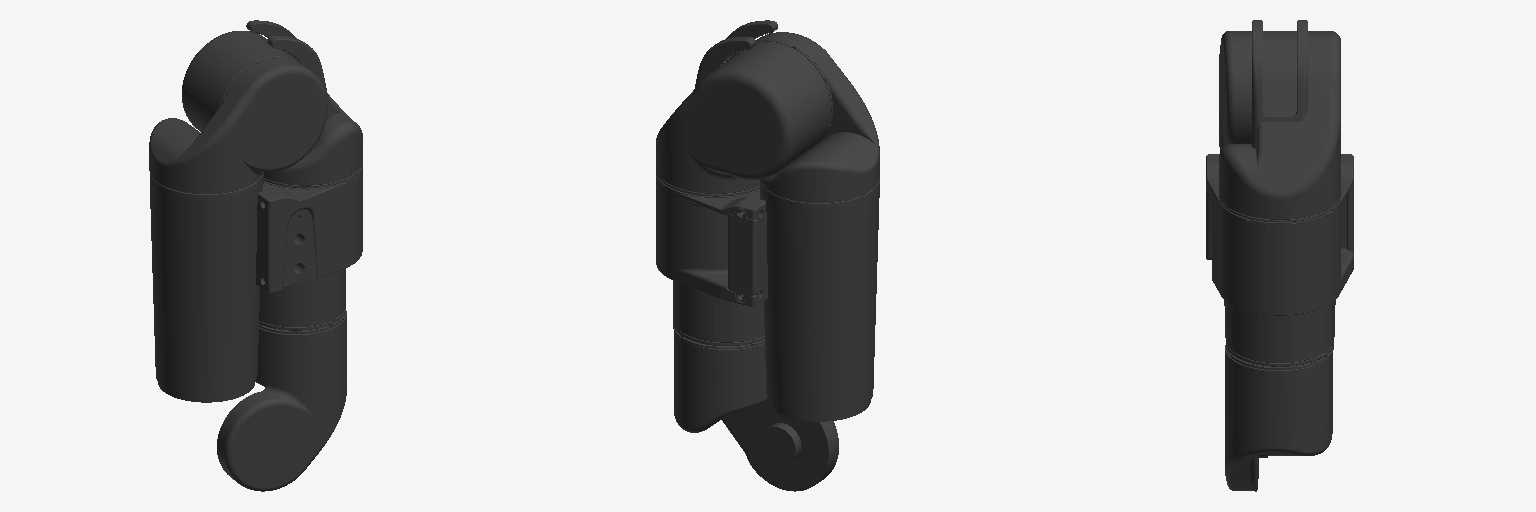
The robot description file, URDF, robot "bravo_5_example":
<?xml version="1.0" encoding="utf-8"?>
<!-- =================================================================================== -->
<!-- |    This document was autogenerated by xacro from bravo_5_example.urdf.xacro     | -->
<!-- |    EDITING THIS FILE BY HAND IS NOT RECOMMENDED                                 | -->
<!-- =================================================================================== -->
<robot name="bravo_5_example">
  <link name="base_link"/>
  <joint name="bravo_joint" type="fixed">
    <origin rpy="0 0 0" xyz="0 0 0"/>
    <parent link="base_link"/>
    <child link="bravo_base_link"/>
    <origin rpy="0 0 0" xyz="0 0 0"/>
  </joint>
  <material name="bravo_black">
    <color rgba="0.3 0.3 0.3 1"/>
  </material>
  <link name="bravo_base_link">
    <visual>
      <geometry>
        <mesh filename="package://bpl_bravo_description/meshes/RS2-1019_base.stl"/>
      </geometry>
      <material name="bravo_black"/>
    </visual>
    <collision>
      <geometry>
        <box size="0.0725 0.1112 0.083"/>
      </geometry>
      <origin rpy="0 0 0" xyz="0.03625 00 0.0415"/>
    </collision>
    <collision>
      <geometry>
        <box size="0.050 0.080 0.060"/>
      </geometry>
      <origin rpy="0 0 0" xyz="0.025 -0.04556 0.03"/>
    </collision>
    <collision>
      <geometry>
        <cylinder length="0.083" radius="0.046"/>
      </geometry>
      <origin rpy="0 0 0" xyz="0.0665 0 0.0415"/>
    </collision>
  </link>
  <joint name="bravo_axis_e" type="revolute">
    <parent link="bravo_base_link"/>
    <origin rpy="0 0 3.14159" xyz="0.0665 0 0.08"/>
    <axis xyz="0 0 -1"/>
    <child link="bravo_1019_end_link"/>
    <limit effort="0" lower="0.0" upper="6.3" velocity="0"/>
  </joint>
  <link name="bravo_1019_end_link">
    <visual>
      <geometry>
        <mesh filename="package://bpl_bravo_description/meshes/RS2-1019_end.stl"/>
      </geometry>
      <material name="bravo_black"/>
    </visual>
  </link>
  <joint name="bravo_d_base_joint" type="fixed">
    <parent link="bravo_1019_end_link"/>
    <origin rpy="0 0 0" xyz="0 0 0"/>
    <child link="bravo_1013_base_link"/>
  </joint>
  <link name="bravo_1013_base_link">
    <visual>
      <geometry>
        <mesh filename="package://bpl_bravo_description/meshes/RS2-1013_base.stl"/>
      </geometry>
      <material name="bravo_black"/>
    </visual>
    <collision>
      <geometry>
        <cylinder length="0.030" radius="0.046"/>
      </geometry>
      <origin rpy="0 0 0" xyz="0.0 00 0.015"/>
    </collision>
    <collision>
      <geometry>
        <cylinder length="0.1" radius="0.046"/>
      </geometry>
      <origin rpy="1.5707 0 0 " xyz="0.048 00 0.0642"/>
    </collision>
  </link>
  <joint name="bravo_axis_d" type="revolute">
    <parent link="bravo_1013_base_link"/>
    <origin rpy="0 0 0" xyz="0.046 0 0.0642"/>
    <axis xyz="0 -1 0"/>
    <child link="bravo_1013_joint_link"/>
    <limit effort="0" lower="0.0" upper="3.2" velocity="0"/>
  </joint>
  <link name="bravo_1013_joint_link">
    <visual>
      <geometry>
        <mesh filename="package://bpl_bravo_description/meshes/RS2-1013_end.stl"/>
      </geometry>
      <material name="bravo_black"/>
    </visual>
    <collision>
      <geometry>
        <cylinder length="0.03" radius="0.046"/>
      </geometry>
      <origin rpy="0 0 0" xyz="0.046 0 -0.03555"/>
    </collision>
  </link>
  <joint name="bravo_1013_end_joint" type="fixed">
    <parent link="bravo_1013_joint_link"/>
    <origin rpy="3.14159 0 3.14159" xyz="0.046 0 -0.05055"/>
    <child link="bravo_1013_end_link"/>
  </joint>
  <link name="bravo_1013_end_link"/>
  <joint name="bravo_c_base_joint" type="fixed">
    <parent link="bravo_1013_end_link"/>
    <origin rpy="0 0 0" xyz="0 0 0.182"/>
    <child link="bravo_1023_0_base_link"/>
  </joint>
  <link name="bravo_1023_0_base_link">
    <visual>
      <geometry>
        <mesh filename="package://bpl_bravo_description/meshes/RS2-1023_0_base.stl"/>
      </geometry>
      <material name="bravo_black"/>
    </visual>
    <collision>
      <geometry>
        <cylinder length="0.03" radius="0.0408"/>
      </geometry>
      <origin rpy="0 0 0" xyz="0 00 0.015"/>
    </collision>
    <collision>
      <geometry>
        <cylinder length="0.0816" radius="0.0408"/>
      </geometry>
      <origin rpy="1.5707 0 0" xyz="0.0408 00 0.0578"/>
    </collision>
  </link>
  <joint name="bravo_axis_c" type="revolute">
    <parent link="bravo_1023_0_base_link"/>
    <origin rpy="0 0 0" xyz="0.042 0 0.0578"/>
    <axis xyz="0 -1 0"/>
    <child link="bravo_1023_0_joint_link"/>
    <limit effort="0" lower="0.0" upper="3.2" velocity="0"/>
  </joint>
  <link name="bravo_1023_0_joint_link">
    <visual>
      <geometry>
        <mesh filename="package://bpl_bravo_description/meshes/RS2-1023_0_end.stl"/>
      </geometry>
      <material name="bravo_black"/>
    </visual>
    <collision>
      <geometry>
        <cylinder length="0.080" radius="0.0408"/>
      </geometry>
      <origin rpy="0 0 0" xyz="0.0408 0 -0.05385"/>
    </collision>
  </link>
  <joint name="bravo_1023_0_end_joint" type="fixed">
    <parent link="bravo_1023_0_joint_link"/>
    <origin rpy="3.14159 0 0" xyz="0.0408 0 -0.09385"/>
    <child link="bravo_1023_0_end_link"/>
  </joint>
  <link name="bravo_1023_0_end_link"/>
  <joint name="bravo_b_base_joint" type="fixed">
    <parent link="bravo_1023_0_end_link"/>
    <origin rpy="0 0 0" xyz="0 0 0"/>
    <child link="bravo_1023_1_base_link"/>
  </joint>
  <link name="bravo_1023_1_base_link">
        </link>
  <joint name="bravo_axis_b" type="continuous">
    <parent link="bravo_1023_1_base_link"/>
    <origin rpy="0 0 0" xyz="0 0 0.0005"/>
    <axis xyz="0 0 -1"/>
    <child link="bravo_1023_1_joint_link"/>
    <!--            <limit effort="0" velocity="0" lower="0.0" upper="0.0" />-->
  </joint>
  <link name="bravo_1023_1_joint_link">
    <visual>
      <geometry>
        <mesh filename="package://bpl_bravo_description/meshes/RS2-1023_1_end.stl"/>
      </geometry>
      <material name="bravo_black"/>
    </visual>
    <collision>
      <geometry>
        <cylinder length="0.0056" radius="0.0408"/>
      </geometry>
      <origin rpy="0 0 0" xyz="0 0 0.0028"/>
    </collision>
  </link>
  <joint name="bravo_1023_1_end_joint" type="fixed">
    <parent link="bravo_1023_1_joint_link"/>
    <origin rpy="0 0 0" xyz="0 0 0.0056"/>
    <child link="bravo_1023_1_end_link"/>
  </joint>
  <link name="bravo_1023_1_end_link"/>
  <joint name="bravo_a_base_joint" type="fixed">
    <parent link="bravo_1023_1_end_link"/>
    <origin rpy="0 0 0" xyz="0 0 0"/>
    <child link="bravo_1028_base_link"/>
  </joint>
  <link name="bravo_1028_base_link">
    <visual>
      <geometry>
        <mesh filename="package://bpl_bravo_description/meshes/RS2-1028.stl"/>
      </geometry>
      <material name="bravo_black"/>
    </visual>
    <collision>
      <geometry>
        <cylinder length="0.120" radius="0.0408"/>
      </geometry>
      <origin rpy="0 0 0" xyz="0 0 0.06"/>
    </collision>
  </link>
  <joint name="bravo_1028_end_joint" type="fixed">
    <parent link="bravo_1028_base_link"/>
    <origin rpy="-1.5707 -1.5707 0" xyz="0 0 0.120"/>
    <child link="bravo_1028_end_link"/>
  </joint>
  <link name="bravo_1028_end_link"/>
  <joint name="bravo_jaws_joint" type="fixed">
    <origin rpy="0 0 0" xyz=" 0 0 0.0"/>
    <parent link="bravo_1028_end_link"/>
    <child link="bravo_jaws_base_link"/>
  </joint>
  <link name="bravo_jaws_base_link">
    <!--        <visual>-->
    <!--            <geometry>-->
    <!--                <mesh filename="package://bpl_bravo_description/meshes/end_effectors/RS2-257.stl"/>-->
    <!--            </geometry>-->
    <!--            <material name="bravo_jaws_black"/>-->
    <!--            </visual>-->
  </link>
  <link name="bravo_push_rod"/>
  <joint name="bravo_axis_a" type="prismatic">
    <origin rpy="0 0 0" xyz="0 0 0.009"/>
    <parent link="bravo_jaws_base_link"/>
    <child link="bravo_push_rod"/>
    <axis xyz="0 0 1"/>
    <limit effort="10" lower="0" upper="0.035" velocity="10"/>
  </joint>
  <link name="bravo_1030_base_link">
    <visual>
      <geometry>
        <mesh filename="package://bpl_bravo_description/meshes/RS2-1030.stl"/>
      </geometry>
      <material name="bravo_black"/>
    </visual>
    <collision>
      <geometry>
        <cylinder length="0.03033333" radius="0.046"/>
      </geometry>
      <origin rpy="0 0 0" xyz="0 0 0.01516666"/>
    </collision>
    <collision>
      <geometry>
        <cylinder length="0.03033333" radius="0.045"/>
      </geometry>
      <origin rpy="0 0 0" xyz="0 0 0.0455"/>
    </collision>
    <collision>
      <geometry>
        <cylinder length="0.03033333" radius="0.044"/>
      </geometry>
      <origin rpy="0 0 0" xyz="0 0 0.075833333"/>
    </collision>
    <collision>
      <geometry>
        <cylinder length="0.03033333" radius="0.043"/>
      </geometry>
      <origin rpy="0 0 0" xyz="0 0 0.1061666666"/>
    </collision>
    <collision>
      <geometry>
        <cylinder length="0.03033333" radius="0.042"/>
      </geometry>
      <origin rpy="0 0 0" xyz="0 0 0.1365"/>
    </collision>
    <collision>
      <geometry>
        <cylinder length="0.03033333" radius="0.041"/>
      </geometry>
      <origin rpy="0 0 0" xyz="0 0 0.1668333"/>
    </collision>
  </link>
  <joint name="bravo_1030_base_joint" type="fixed">
    <parent link="bravo_1013_end_link"/>
    <child link="bravo_1030_base_link"/>
    <origin rpy="0 0 0" xyz="0 0 0"/>
  </joint>
  <material name="bravo_finger_jaws_black">
    <color rgba="0.3 0.3 0.3 1"/>
  </material>
  <joint name="bravo_finger_jaws_joint" type="fixed">
    <origin rpy="0 0 0" xyz="0 0 0"/>
    <parent link="bravo_jaws_base_link"/>
    <child link="bravo_finger_jaws_base_link"/>
    <origin rpy="0 0 0" xyz="0 0 0"/>
  </joint>
  <link name="bravo_finger_jaws_base_link">
    <visual>
      <geometry>
        <mesh filename="package://bpl_bravo_description/meshes/end_effectors/RS2-257.stl"/>
      </geometry>
      <material name="bravo_finger_jaws_black"/>
    </visual>
    <collision>
      <geometry>
        <cylinder length="0.02" radius="0.05"/>
      </geometry>
      <origin rpy="0 1.5707 0" xyz="0.01 0 0.00"/>
    </collision>
  </link>
  <link name="bravo_finger_jaws_rs2_300_link">
    <visual>
      <geometry>
        <mesh filename="package://bpl_bravo_description/meshes/end_effectors/RS2-300.stl"/>
      </geometry>
      <material name="bravo_finger_jaws_black"/>
    </visual>
    <collision>
      <geometry>
        <box size="0.14 0.04 0.045"/>
      </geometry>
      <origin rpy="0 0 0.35" xyz="0.07 0.025 0.00"/>
    </collision>
  </link>
  <joint name="bravo_finger_jaws_rs2_300_joint" type="revolute">
    <origin rpy="0 0 0" xyz="0.0097 -0.033 0"/>
    <parent link="bravo_finger_jaws_base_link"/>
    <child link="bravo_finger_jaws_rs2_300_link"/>
    <axis xyz="0 0 -1"/>
    <limit effort="10" lower="0" upper="1.0" velocity="10"/>
    <mimic joint="bravo_axis_a" multiplier="18" offset="0"/>
  </joint>
  <link name="bravo_finger_jaws_rs2_301_link">
    <visual>
      <geometry>
        <mesh filename="package://bpl_bravo_description/meshes/end_effectors/RS2-301.stl"/>
      </geometry>
      <material name="bravo_finger_jaws_black"/>
    </visual>
    <collision>
      <geometry>
        <box size="0.14 0.04 0.045"/>
      </geometry>
      <origin rpy="0 0 -0.35" xyz="0.07 -0.025 0.00"/>
    </collision>
  </link>
  <joint name="bravo_finger_jaws_rs2_301_joint" type="revolute">
    <origin rpy="0 0 0" xyz="0.0097 0.033 0"/>
    <parent link="bravo_finger_jaws_base_link"/>
    <child link="bravo_finger_jaws_rs2_301_link"/>
    <axis xyz="0 0 1"/>
    <limit effort="10" lower="0" upper="1.0" velocity="10"/>
    <mimic joint="bravo_finger_jaws_rs2_300_joint" multiplier="1" offset="0"/>
  </joint>
</robot>

--- Render facts (derived) ---
3 views of the same robot in one strip: view 1: azimuth 30°, elevation 25°; view 2: azimuth 150°, elevation 25°; view 3: azimuth 270°, elevation 25° (orthographic).
Model bravo_5_example with 20 links and 19 joints (5 revolute, 1 continuous, 1 prismatic, 12 fixed), rooted at base_link, posed all joints at 0.
Links seen in each view (by area): view 1: bravo_1030_base_link, bravo_1013_joint_link, bravo_1023_0_joint_link, bravo_base_link, bravo_1013_base_link, bravo_1028_base_link, bravo_finger_jaws_rs2_301_link, bravo_1023_1_joint_link; view 2: bravo_1030_base_link, bravo_1013_base_link, bravo_1023_0_joint_link, bravo_base_link, bravo_1013_joint_link, bravo_1028_base_link, bravo_finger_jaws_rs2_301_link, bravo_1023_1_joint_link; view 3: bravo_1013_base_link, bravo_base_link, bravo_1023_0_joint_link, bravo_1028_base_link, bravo_1013_joint_link, bravo_finger_jaws_rs2_301_link, bravo_1023_1_joint_link, bravo_1019_end_link.
Boxes of the visible links, x1,y1,x2,y2 form: bravo_1030_base_link: (150,172,263,402); bravo_1013_joint_link: (149,57,327,193); bravo_1023_0_joint_link: (217,311,346,491); bravo_base_link: (256,166,362,292); bravo_1013_base_link: (182,31,362,185); bravo_1028_base_link: (259,268,345,326); bravo_finger_jaws_rs2_301_link: (246,20,332,118); bravo_1023_1_joint_link: (259,309,345,333); bravo_1030_base_link: (760,180,879,421); bravo_1013_base_link: (656,42,830,193); bravo_1023_0_joint_link: (674,332,838,491); bravo_base_link: (656,177,767,306); bravo_1013_joint_link: (756,32,879,202); bravo_1028_base_link: (673,281,764,342); bravo_finger_jaws_rs2_301_link: (695,20,777,87); bravo_1023_1_joint_link: (673,322,764,349); bravo_1013_base_link: (1219,31,1340,219); bravo_base_link: (1206,154,1353,315); bravo_1023_0_joint_link: (1225,345,1332,491); bravo_1028_base_link: (1226,302,1333,362); bravo_1013_joint_link: (1219,31,1251,145); bravo_finger_jaws_rs2_301_link: (1252,20,1307,148); bravo_1023_1_joint_link: (1226,343,1333,369); bravo_1019_end_link: (1219,197,1340,225).
Bounding box of the posed robot: 0.184 × 0.1112 × 0.3932 m (x, y, z).
9 mesh visuals loaded from 12 distinct referenced files (9 binary STL); not drawn: 3 (reference not matched to a file when rendering).